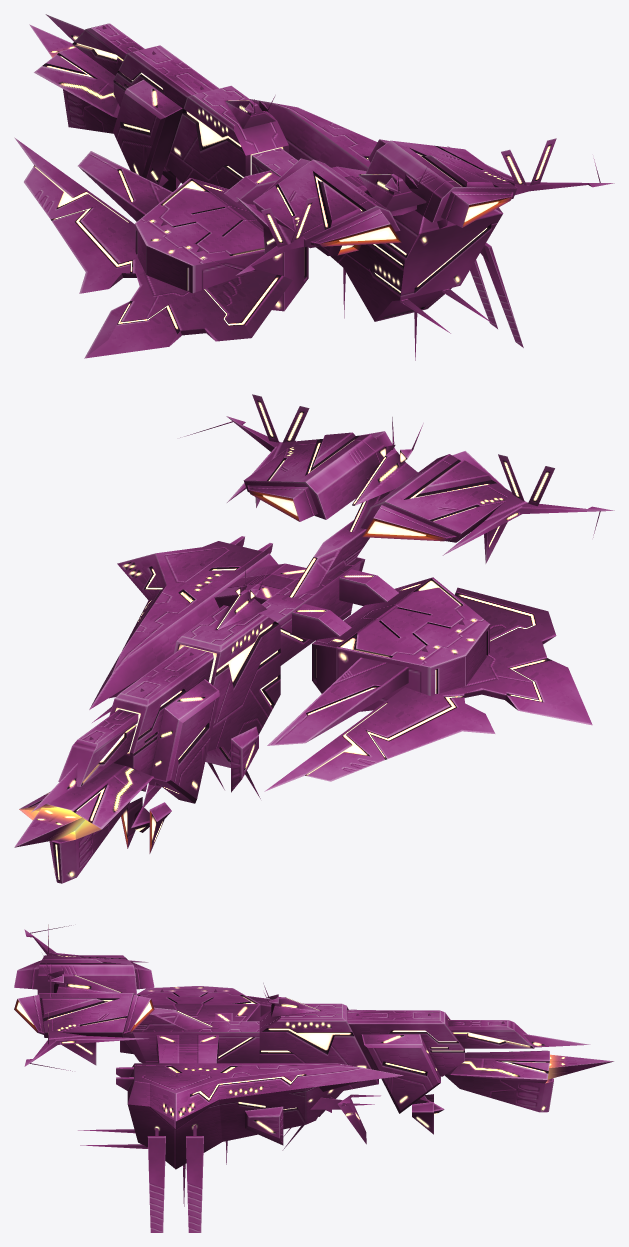
3 renders of one model, top to bottom at view 1: azimuth 30°, elevation 25°; view 2: azimuth 150°, elevation 25°; view 3: azimuth 270°, elevation 25°, orthographic. The views are drawn at different scales.
Parts seen in each view (by area): view 1: body; view 2: body; view 3: body.
Boxes of the visible parts, <box> form: body: <box>14,14,614,360</box>; body: <box>14,394,614,883</box>; body: <box>14,924,613,1232</box>.
Bounding box in the file's own units: 269 × 164 × 410.
Materials: 2 (2 with a texture image).
